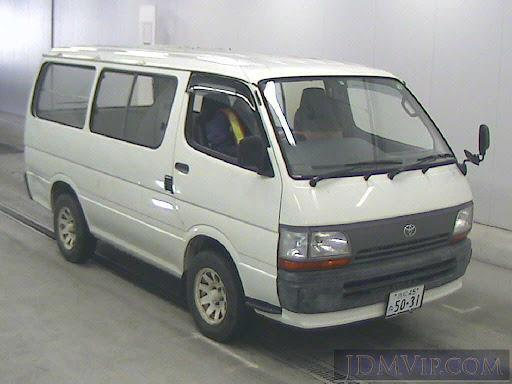van: (31, 37, 486, 342)
